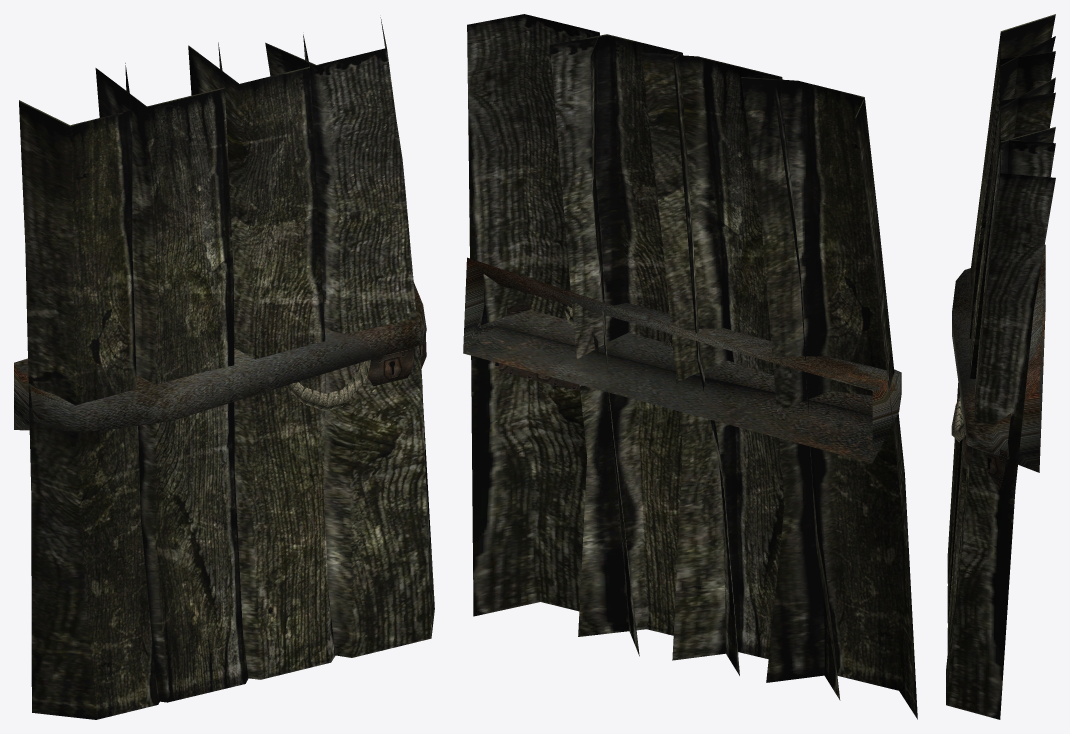
File: ex_de_shack_door.dae
The picture shows the model from 3 angles, left to right: view 1: azimuth 30°, elevation 25°; view 2: azimuth 150°, elevation 25°; view 3: azimuth 270°, elevation 25°; orthographic projection. The views are drawn at different scales.
Parts seen in each view (by area): view 1: nifid_1-matrix, nifid_6-matrix, nifid_16-matrix, nifid_11-matrix; view 2: nifid_1-matrix, nifid_6-matrix, nifid_11-matrix; view 3: nifid_1-matrix, nifid_6-matrix, nifid_11-matrix, nifid_16-matrix.
Boxes of the visible parts, x1=… form: nifid_1-matrix: x1=19, y1=17, x2=434, y2=719; nifid_6-matrix: x1=14, y1=282, x2=426, y2=431; nifid_16-matrix: x1=286, y1=360, x2=370, y2=410; nifid_11-matrix: x1=367, y1=334, x2=426, y2=386; nifid_1-matrix: x1=467, y1=14, x2=917, y2=719; nifid_6-matrix: x1=463, y1=257, x2=901, y2=462; nifid_11-matrix: x1=491, y1=304, x2=598, y2=391; nifid_1-matrix: x1=946, y1=14, x2=1055, y2=719; nifid_6-matrix: x1=952, y1=244, x2=1045, y2=472; nifid_11-matrix: x1=964, y1=437, x2=1007, y2=489; nifid_16-matrix: x1=951, y1=395, x2=965, y2=442.
Size of the model in its own units: 109 by 27.64 by 152.
4 materials, 4 textured.
